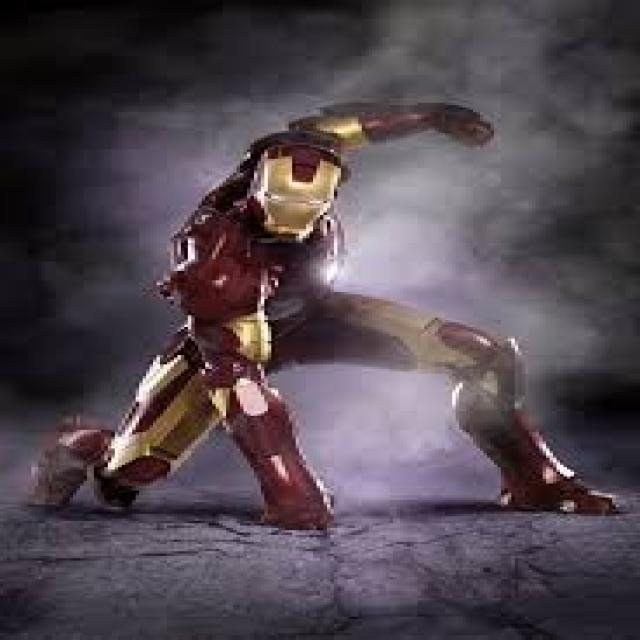Object-Detection: (6, 1, 640, 640)
